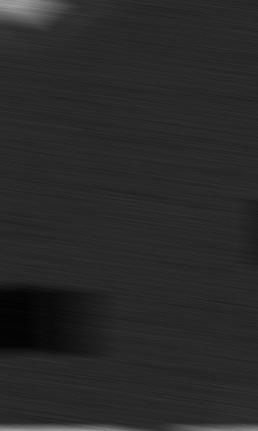Airbag: (0, 0, 258, 431), (236, 0, 258, 430), (0, 427, 258, 431), (236, 428, 258, 431)
